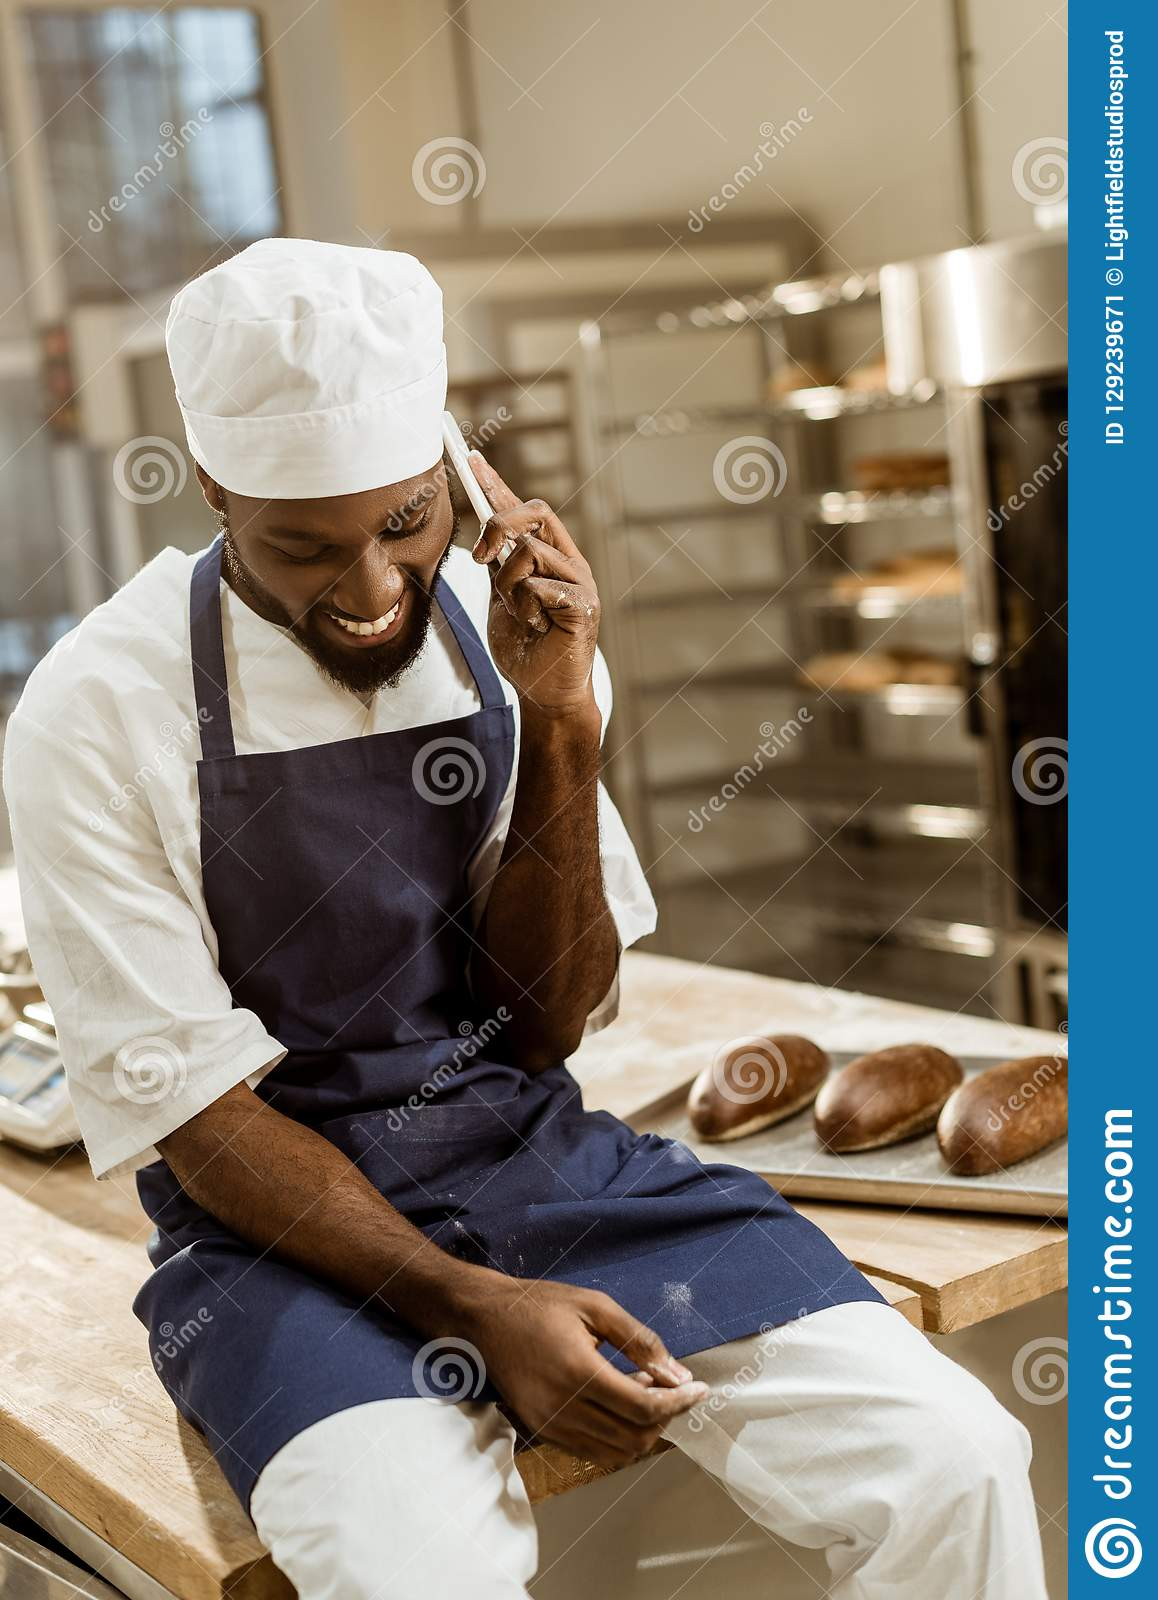phone: (440, 417, 553, 639)
talk: (252, 415, 599, 734)
